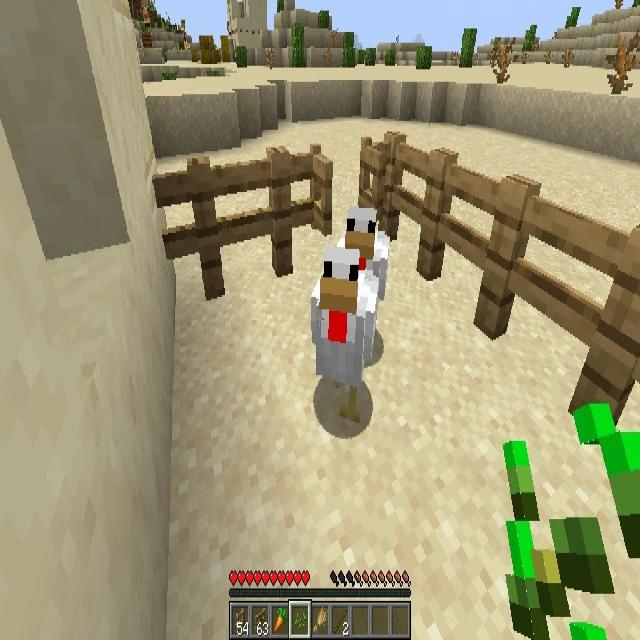duck: (311, 249, 378, 414), (337, 209, 387, 302)
